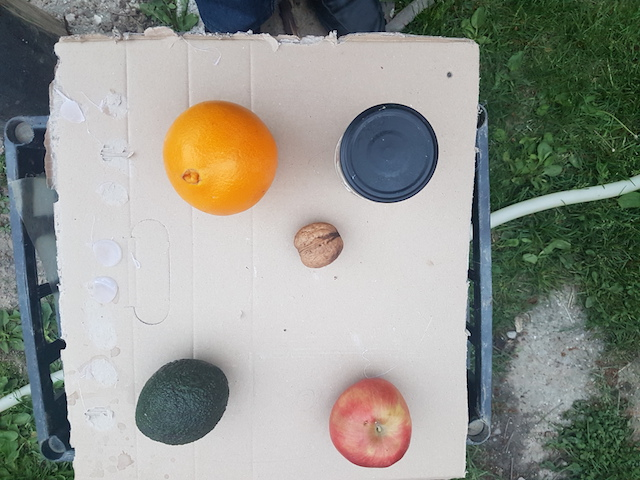apple: (331, 377, 415, 469)
avocado: (134, 357, 229, 449)
nut: (294, 220, 348, 268)
orange: (165, 99, 279, 221)
recipient: (336, 101, 438, 207)
